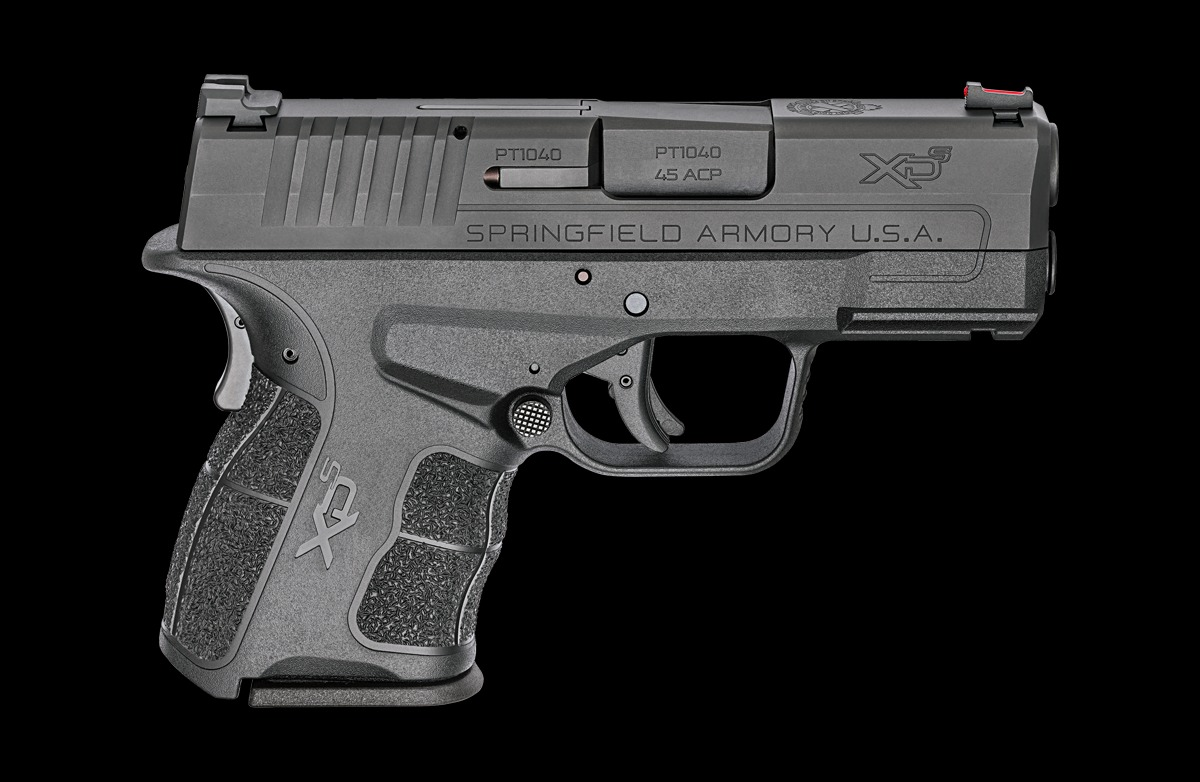gun: (143, 58, 1066, 714)
